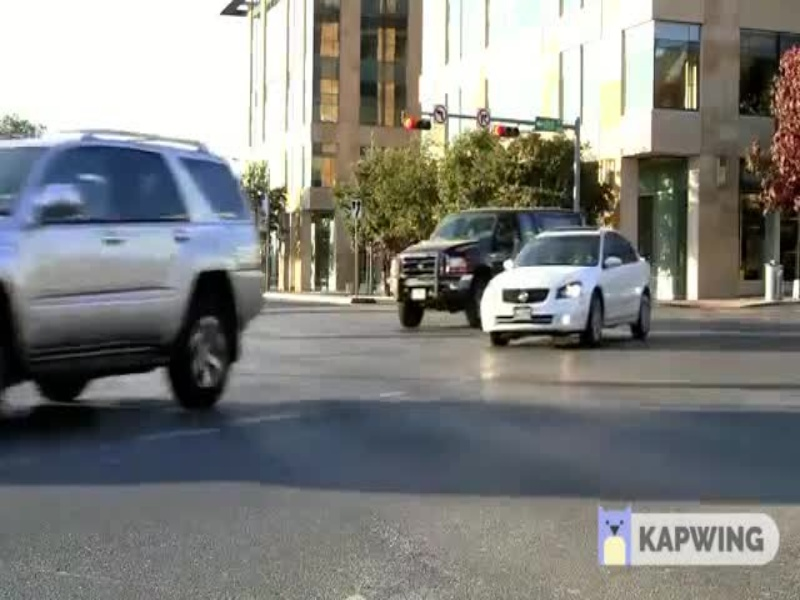car: (481, 229, 669, 348)
suv: (1, 122, 272, 413)
